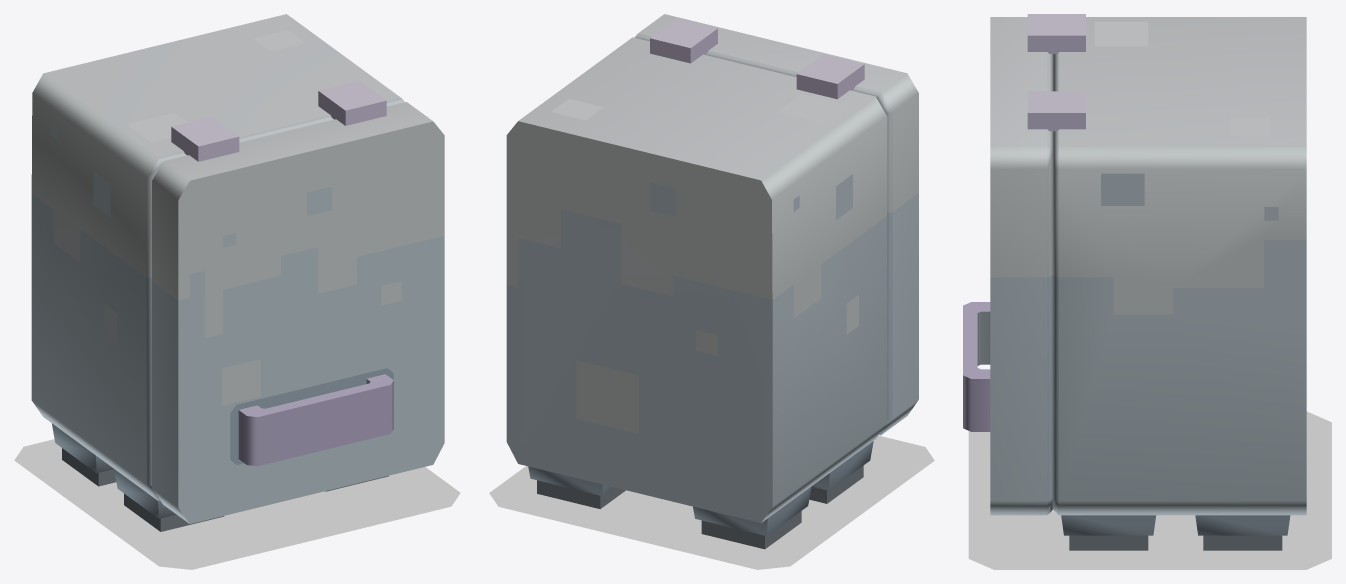
Rendered from MG_special_ice_02.fbx.
3 renders of one model, left to right at view 1: azimuth 30°, elevation 25°; view 2: azimuth 150°, elevation 25°; view 3: azimuth 270°, elevation 25°, orthographic. The views are drawn at different scales.
Visible parts, largest first — view 1: polySurface3, polySurface2, ground; view 2: polySurface2, polySurface3, ground; view 3: polySurface2, polySurface3, ground.
Boxes of the visible parts, left/top/right/bottom form: polySurface3: left=152, top=102, right=444, bottom=523; polySurface2: left=31, top=14, right=404, bottom=531; ground: left=14, top=439, right=460, bottom=569; polySurface2: left=506, top=18, right=887, bottom=549; polySurface3: left=635, top=14, right=918, bottom=435; ground: left=489, top=435, right=934, bottom=569; polySurface2: left=1027, top=14, right=1306, bottom=550; polySurface3: left=963, top=17, right=1053, bottom=515; ground: left=968, top=411, right=1331, bottom=569.
Bounding box in the file's own units: 3.39 × 4.24 × 3.32.
